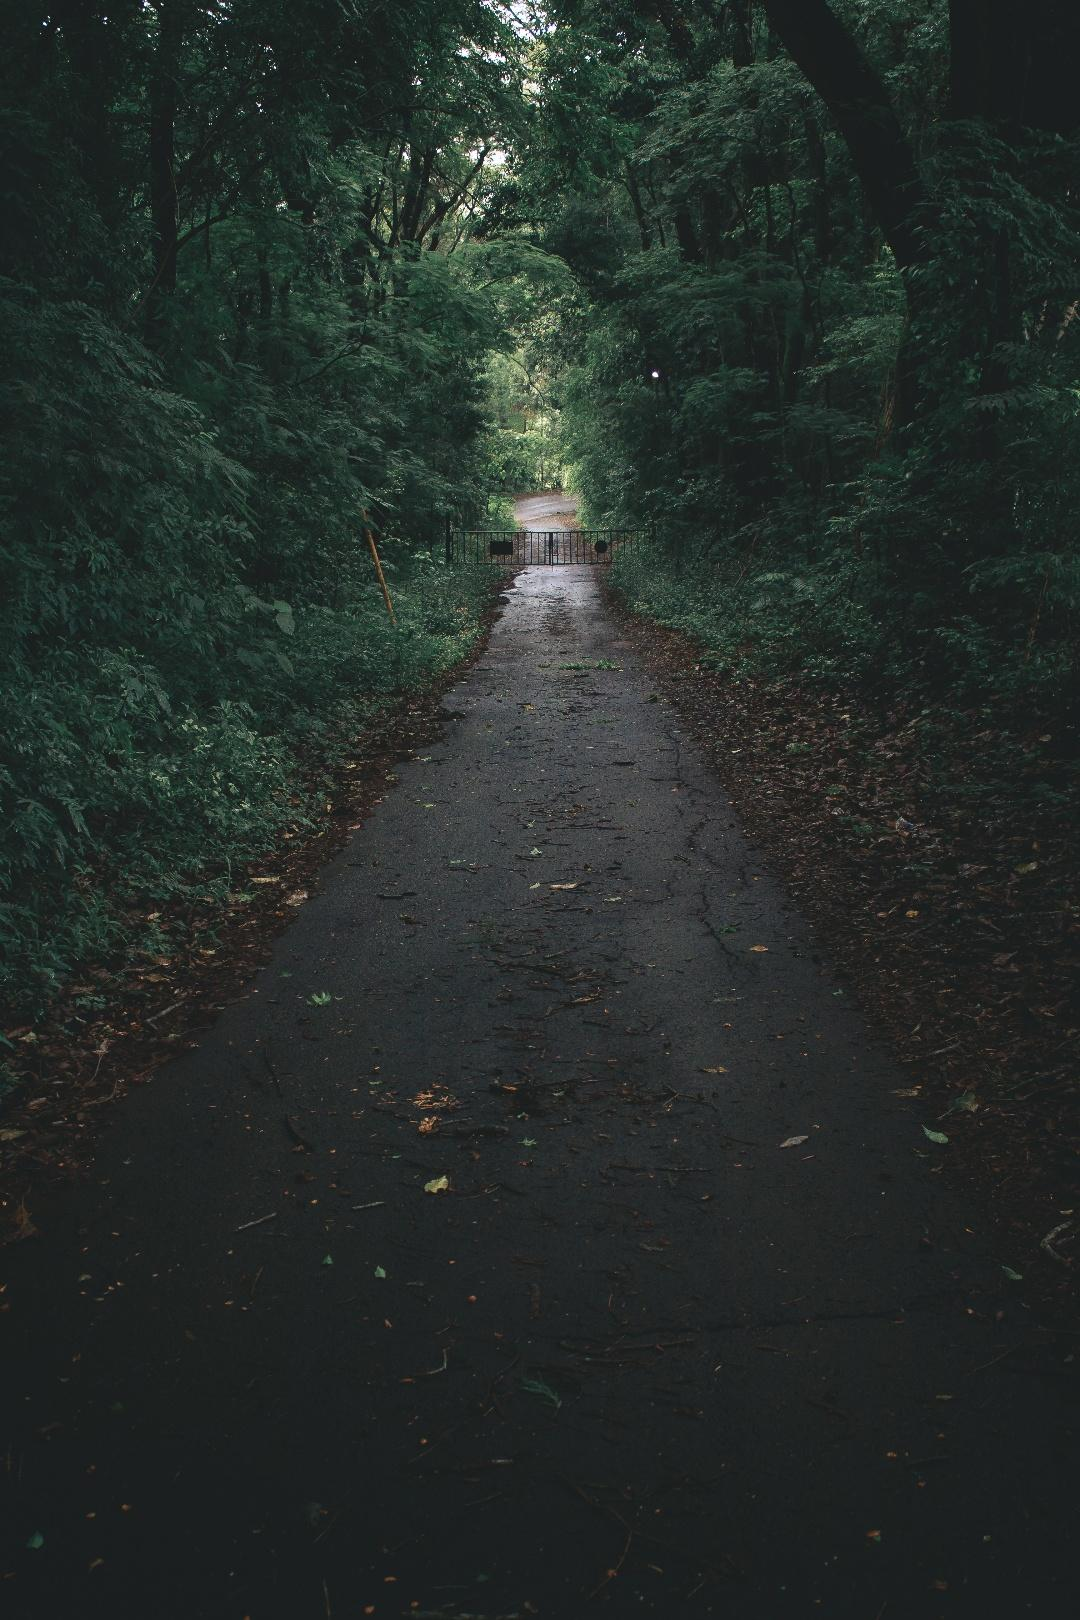trashbox-cardboard: (974, 98, 1080, 1141)
